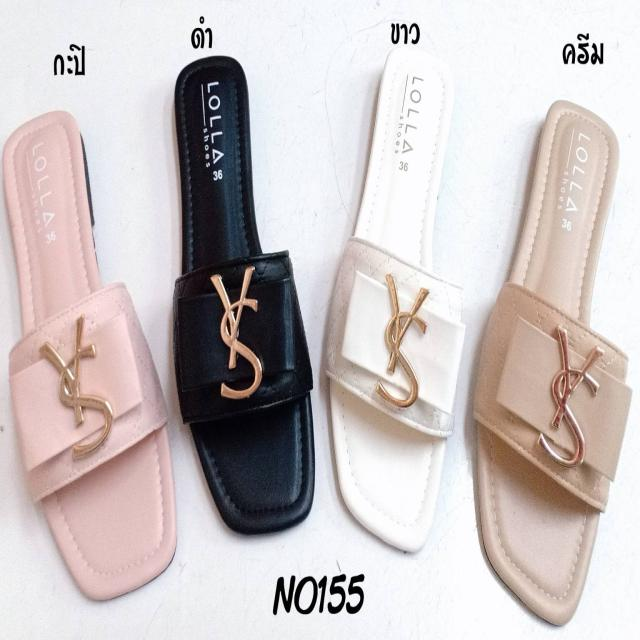black: (177, 52, 318, 536)
cream: (472, 92, 620, 620)
kapi: (2, 108, 178, 613)
white: (330, 46, 455, 549)
